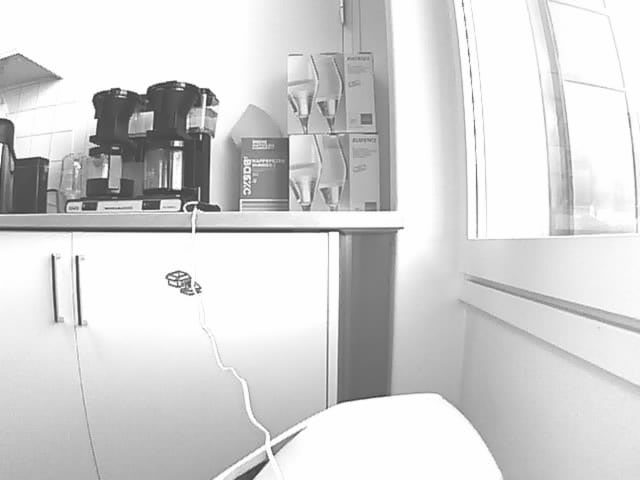not empty coffee: (139, 137, 199, 196)
